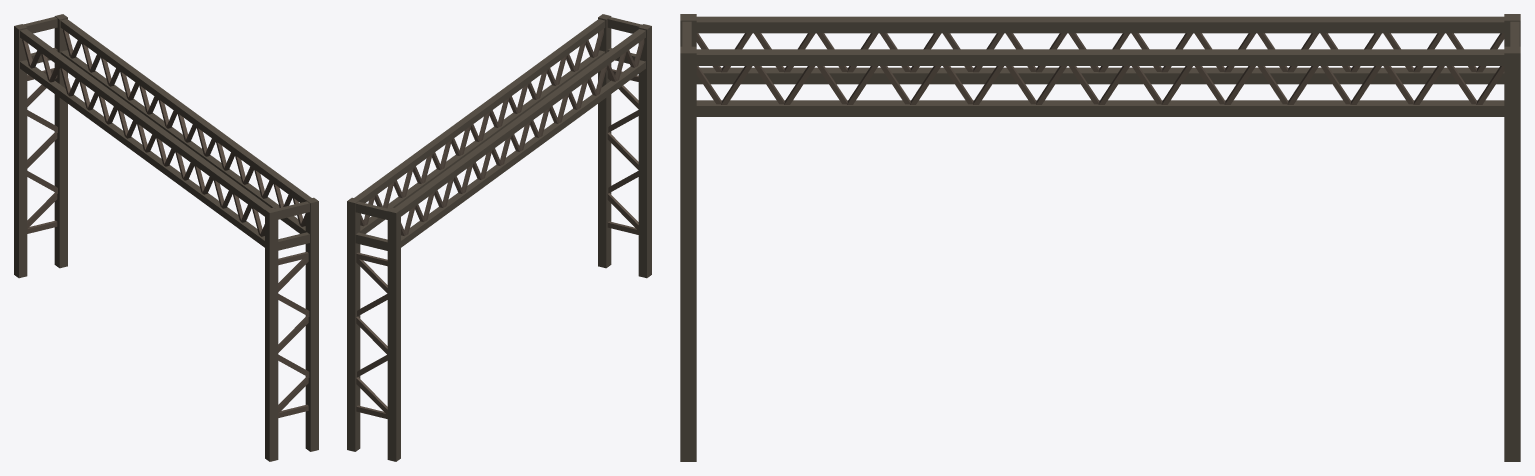
The model's file is SignHolder_4_C.fbx.
3 views of the same model, side by side, from view 1: azimuth 30°, elevation 25°; view 2: azimuth 150°, elevation 25°; view 3: azimuth 270°, elevation 25° (orthographic). The views are drawn at different scales.
Parts seen in each view (by area): view 1: SignHolder_4_C; view 2: SignHolder_4_C; view 3: SignHolder_4_C.
Part boxes in pixels (left/top/right/bottom): SignHolder_4_C: left=14, top=14, right=318, bottom=461; SignHolder_4_C: left=347, top=14, right=651, bottom=461; SignHolder_4_C: left=680, top=14, right=1520, bottom=461.
Bounding box in the file's own units: 98.7 × 477 × 889.
